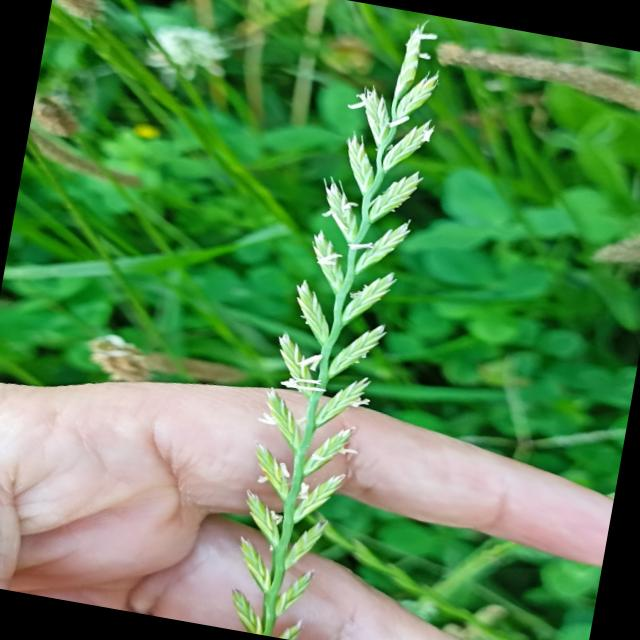Lolium: (213, 2, 458, 640)
